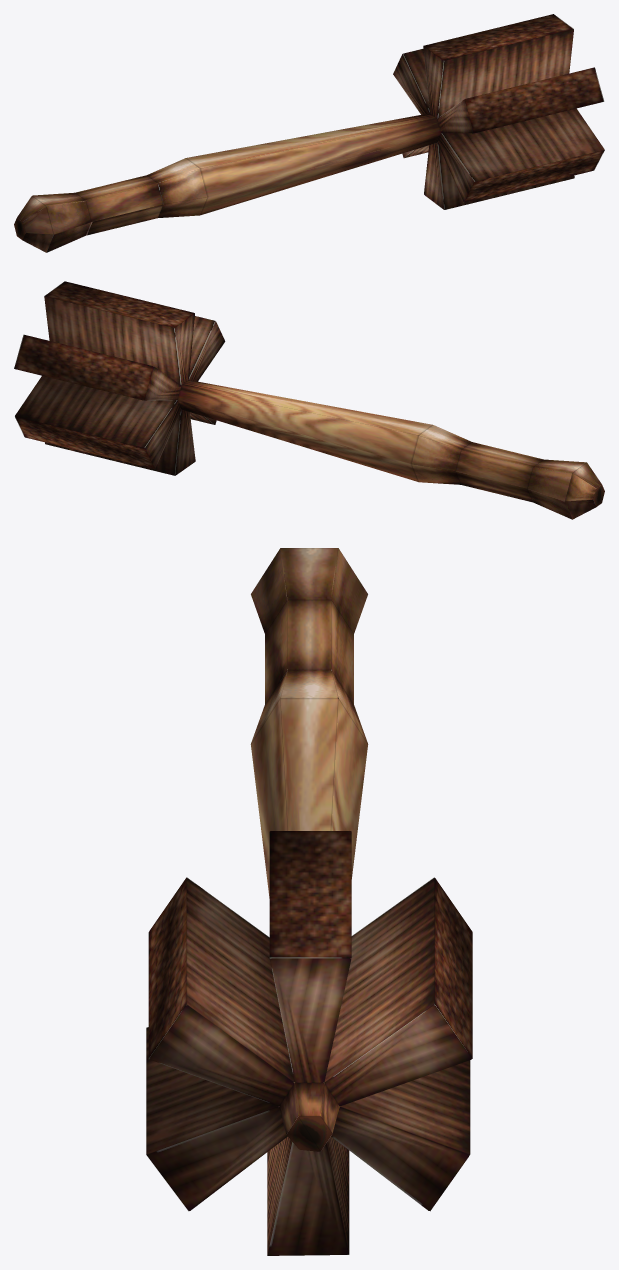
3 views of the same model, one above another, from view 1: azimuth 30°, elevation 25°; view 2: azimuth 150°, elevation 25°; view 3: azimuth 270°, elevation 25° (orthographic). The views are drawn at different scales.
Parts seen in each view (by area): view 1: T1L5M005_2; view 2: T1L5M005_2; view 3: T1L5M005_2.
Boxes of the visible parts, x1=… form: T1L5M005_2: x1=14, y1=14, x2=604, y2=252; T1L5M005_2: x1=14, y1=281, x2=604, y2=519; T1L5M005_2: x1=146, y1=548, x2=472, y2=1255.
Size of the model in its own units: 1.09 by 0.2705 by 0.2686.
